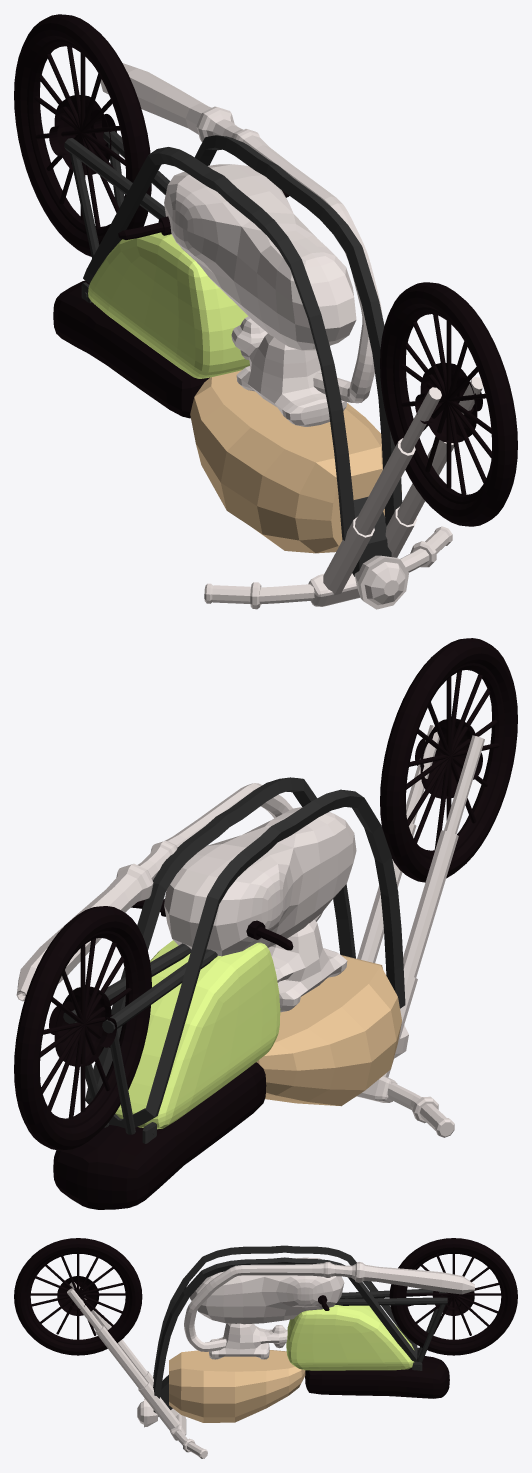
The model's file is Motorcycle.fbx.
3 views of the same model, one above another, from view 1: azimuth 30°, elevation 25°; view 2: azimuth 150°, elevation 25°; view 3: azimuth 270°, elevation 25° (orthographic). The views are drawn at different scales.
Parts seen in each view (by area): view 1: Bkprt1, Bkprt14, Bkprt7, Bkprt11, StrucPipe, Bkprt3, ExPipe, Bkprt2, Bkprt6, Bkprt13, Sphere, Bkprt10 (+6 smaller); view 2: Bkprt11, Bkprt14, StrucPipe, Bkprt7, Bkprt3, Bkprt1, Bkprt2, ExPipe, Bkprt13, Bkprt6, Bkprt10, Cylinder.002 (+3 smaller); view 3: Bkprt14, Bkprt1, Bkprt11, Bkprt3, Bkprt7, StrucPipe, ExPipe, Bkprt2, Bkprt6, Bkprt10, Cylinder, Bkprt13 (+4 smaller).
Boxes of the visible parts, left/top/right/bottom form: Bkprt1: left=190, top=370, right=401, bottom=553; Bkprt14: left=380, top=282, right=517, bottom=526; Bkprt7: left=164, top=164, right=356, bottom=350; Bkprt11: left=14, top=14, right=151, bottom=256; StrucPipe: left=83, top=135, right=402, bottom=540; Bkprt3: left=88, top=232, right=249, bottom=378; ExPipe: left=100, top=63, right=382, bottom=403; Bkprt2: left=53, top=280, right=209, bottom=418; Bkprt6: left=231, top=316, right=346, bottom=426; Bkprt13: left=323, top=387, right=441, bottom=595; Sphere: left=354, top=555, right=408, bottom=609; Bkprt10: left=385, top=377, right=483, bottom=557; Bkprt11: left=14, top=906, right=151, bottom=1150; Bkprt14: left=380, top=638, right=517, bottom=882; StrucPipe: left=85, top=777, right=405, bottom=1128; Bkprt7: left=164, top=807, right=356, bottom=956; Bkprt3: left=115, top=940, right=280, bottom=1129; Bkprt1: left=256, top=955, right=401, bottom=1106; Bkprt2: left=53, top=1062, right=266, bottom=1209; ExPipe: left=16, top=783, right=322, bottom=1001; Bkprt13: left=383, top=735, right=484, bottom=1077; Bkprt6: left=268, top=919, right=347, bottom=1012; Bkprt10: left=357, top=725, right=439, bottom=962; Cylinder.002: left=102, top=949, right=217, bottom=1033; Bkprt14: left=14, top=1238, right=142, bottom=1355; Bkprt1: left=169, top=1350, right=305, bottom=1422; Bkprt11: left=389, top=1238, right=517, bottom=1355; Bkprt3: left=286, top=1305, right=414, bottom=1370; Bkprt7: left=190, top=1257, right=344, bottom=1324; StrucPipe: left=153, top=1245, right=417, bottom=1398; ExPipe: left=184, top=1262, right=474, bottom=1351; Bkprt2: left=305, top=1356, right=449, bottom=1398; Bkprt6: left=209, top=1323, right=287, bottom=1359; Bkprt10: left=67, top=1288, right=179, bottom=1430; Cylinder: left=335, top=1297, right=447, bottom=1305; Bkprt13: left=69, top=1282, right=178, bottom=1416.
Size of the model in its own units: 378 by 553 by 1302.
